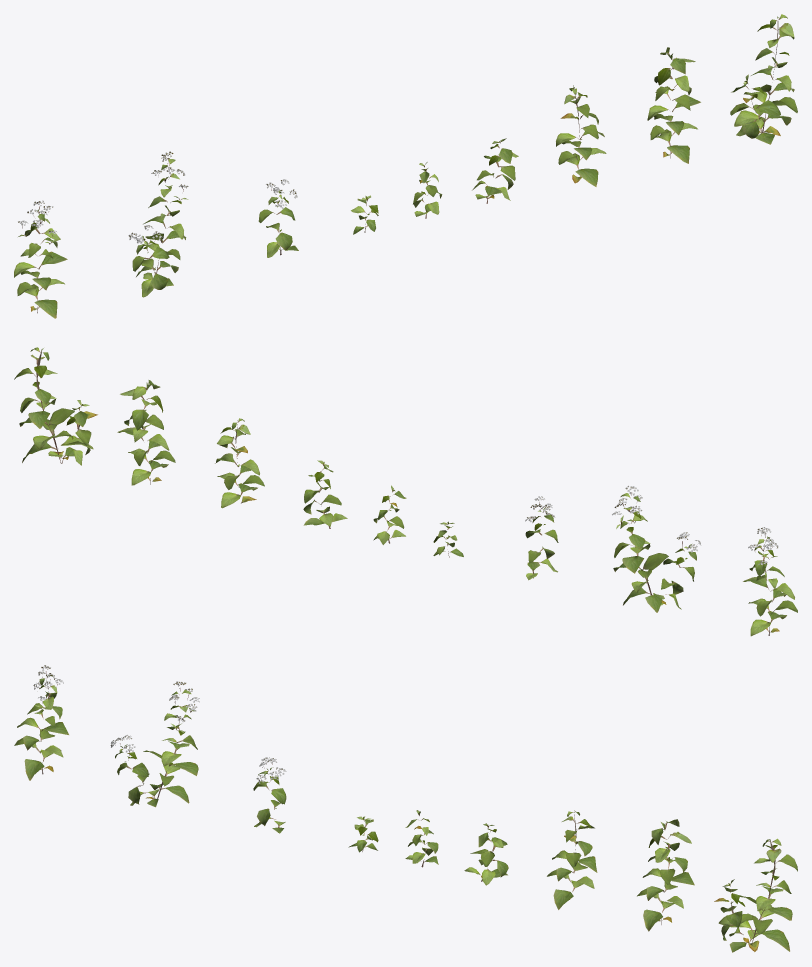
The model's file is shrub-01.glb.
3 views of the same model, one above another, from view 1: azimuth 30°, elevation 25°; view 2: azimuth 150°, elevation 25°; view 3: azimuth 330°, elevation 25° (orthographic). The views are drawn at different scales.
Parts seen in each view (by area): view 1: shrub_01_a; view 2: shrub_01_a; view 3: shrub_01_a.
Part boxes in pixels (bbox=[...]): shrub_01_a: bbox=[14, 14, 797, 318]; shrub_01_a: bbox=[14, 347, 797, 636]; shrub_01_a: bbox=[14, 665, 797, 952].
Size of the model in its own units: 2.59 by 0.3943 by 0.2178.
1 material, 1 textured.
